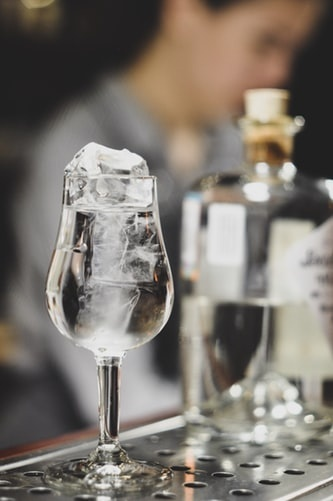whiskey: (45, 168, 167, 476)
